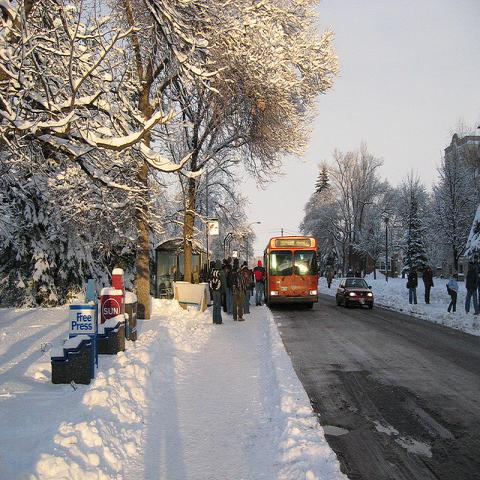bus: (263, 236, 319, 311)
car: (336, 276, 376, 312), (361, 269, 364, 277)
